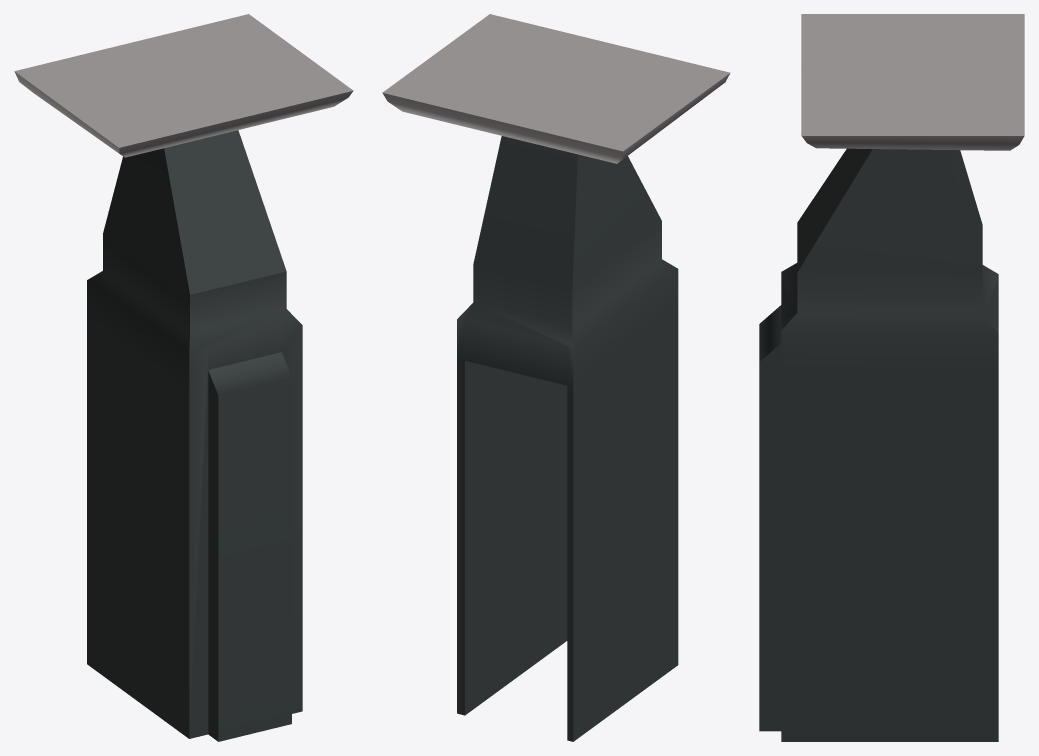
The model's file is Tower.fbx.
3 renders of one model, left to right at view 1: azimuth 30°, elevation 25°; view 2: azimuth 150°, elevation 25°; view 3: azimuth 270°, elevation 25°, orthographic. The views are drawn at different scales.
Parts seen in each view (by area): view 1: Tower; view 2: Tower; view 3: Tower.
Boxes of the visible parts, x1,y1,x2,y2 form: Tower: (14,14,353,741); Tower: (382,14,730,741); Tower: (759,14,1024,741).
Size of the model in its own units: 0.1301 by 0.3175 by 0.1198.
1 material, 1 textured.
